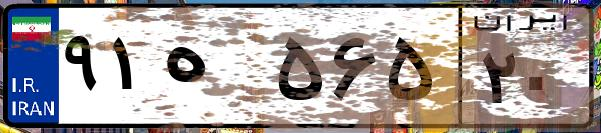0: (525, 38, 570, 115)
1: (110, 28, 158, 98)
2: (475, 38, 525, 113)
5: (270, 28, 330, 110), (385, 28, 445, 110)
6: (330, 28, 385, 110)
9: (57, 26, 110, 100)
ه: (158, 20, 270, 120)
